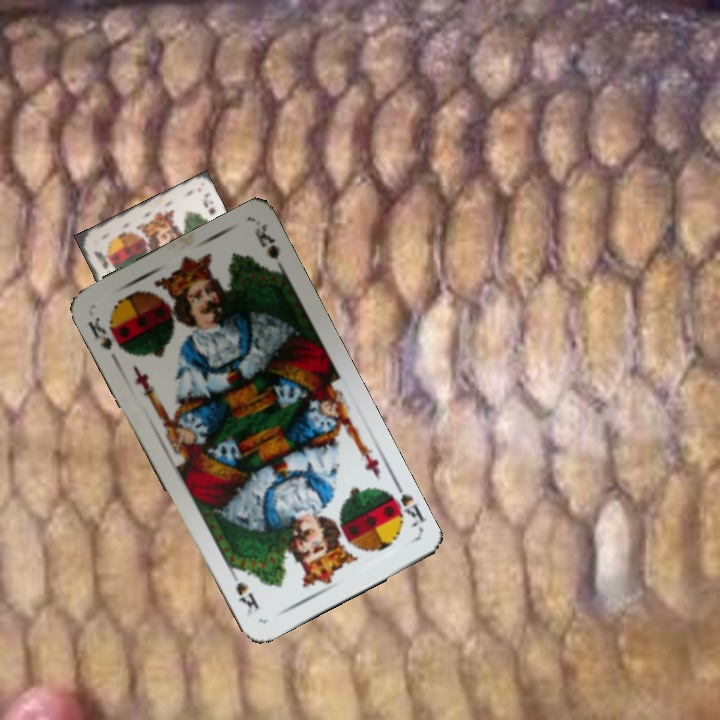SK: (380, 478, 426, 530), (83, 312, 115, 353), (90, 247, 111, 272)
